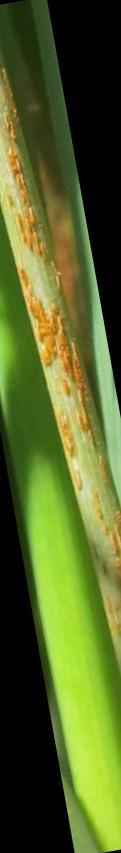Sugarcane: (1, 76, 118, 540)
